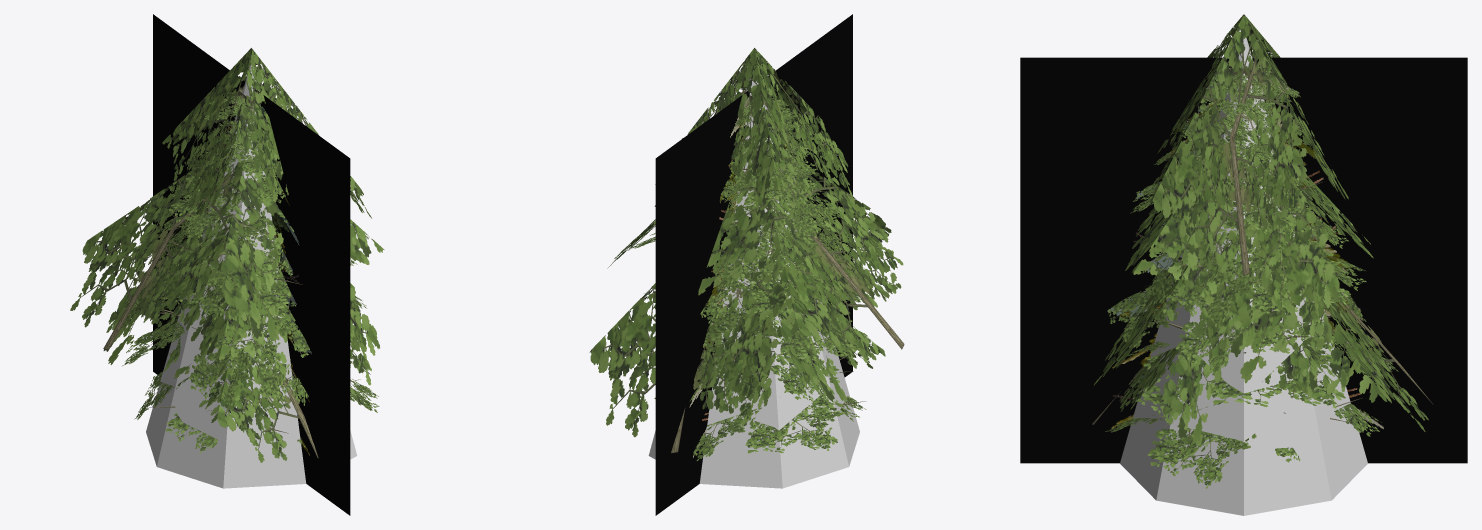
The model's file is BIGLODTREEV1.fbx.
3 views of the same model, side by side, from view 1: azimuth 30°, elevation 25°; view 2: azimuth 150°, elevation 25°; view 3: azimuth 270°, elevation 25° (orthographic). The views are drawn at different scales.
Visible parts, largest first — view 1: Lod1TREE, Lod2TREE, LOD0TREE, Colider; view 2: Lod1TREE, Lod2TREE, LOD0TREE, Colider; view 3: Lod2TREE, Lod1TREE, Colider, LOD0TREE.
Part boxes in pixels (x1,y1,x2,y2): Lod1TREE: (70, 48, 384, 462); Lod2TREE: (153, 14, 350, 515); LOD0TREE: (120, 87, 379, 453); Colider: (146, 64, 357, 488); Lod1TREE: (589, 48, 904, 453); Lod2TREE: (655, 14, 852, 515); LOD0TREE: (629, 91, 872, 460); Colider: (648, 78, 859, 488); Lod2TREE: (1020, 57, 1467, 463); Lod1TREE: (1092, 14, 1433, 444); Colider: (1120, 37, 1367, 515); LOD0TREE: (1105, 66, 1398, 488).
Bounding box in the file's own units: 455 × 572 × 516.
Materials: 2 (2 with a texture image).
